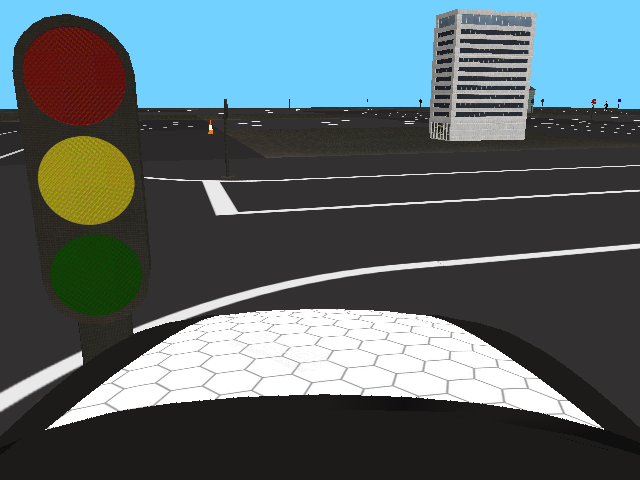red_light: (12, 12, 150, 326)
